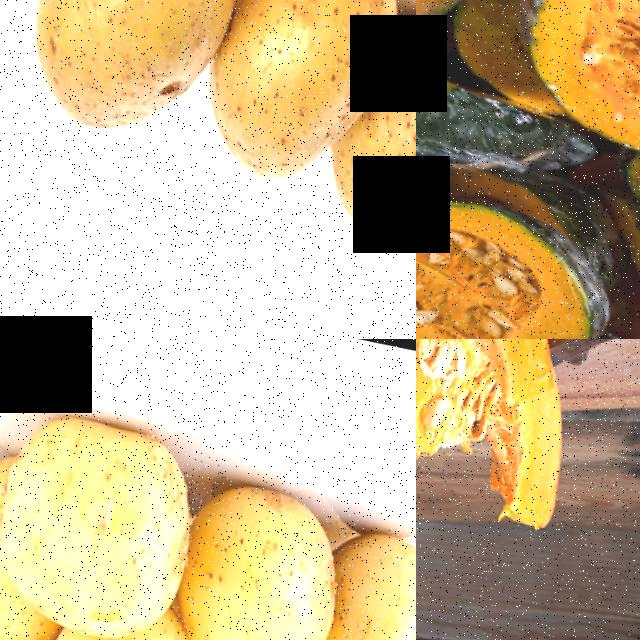potato: (0, 399, 216, 640), (166, 0, 405, 217), (0, 0, 262, 163), (142, 467, 360, 640), (313, 0, 416, 292), (287, 520, 416, 640)
pumpkin: (416, 339, 614, 558), (416, 171, 622, 339), (494, 0, 640, 197)
